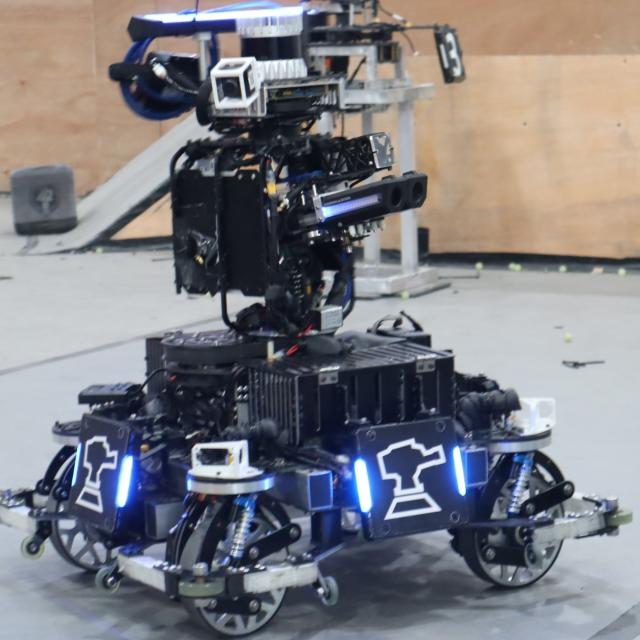Bs: (350, 419, 471, 539), (69, 413, 141, 535)
